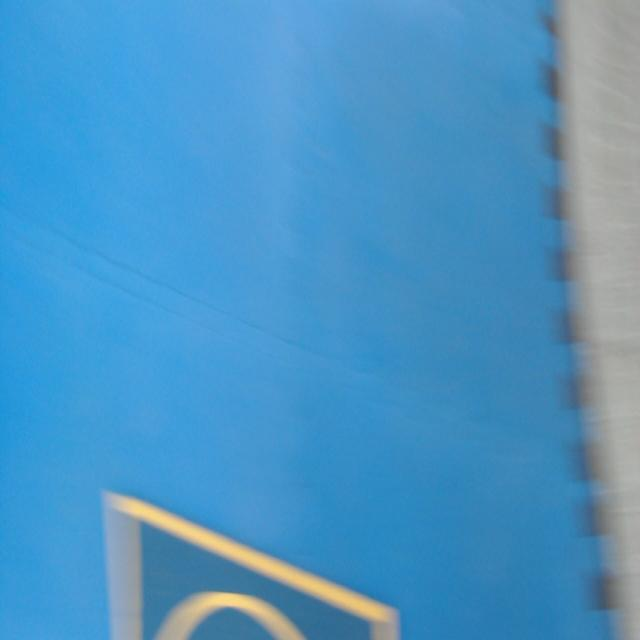base_pouso: (101, 489, 401, 639)
